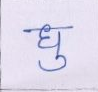u_matra: (38, 55, 68, 72)
